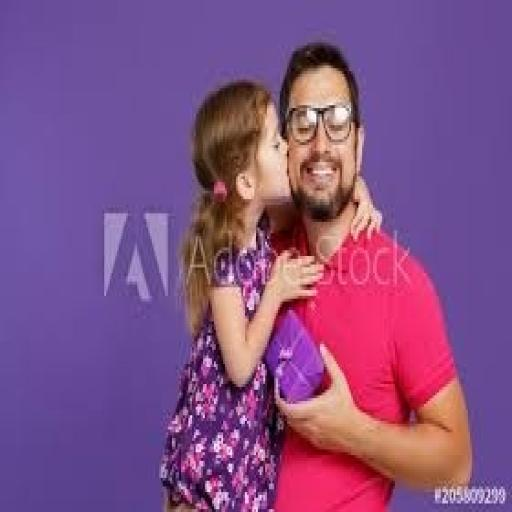hugging: (263, 40, 474, 509), (157, 74, 384, 509)
